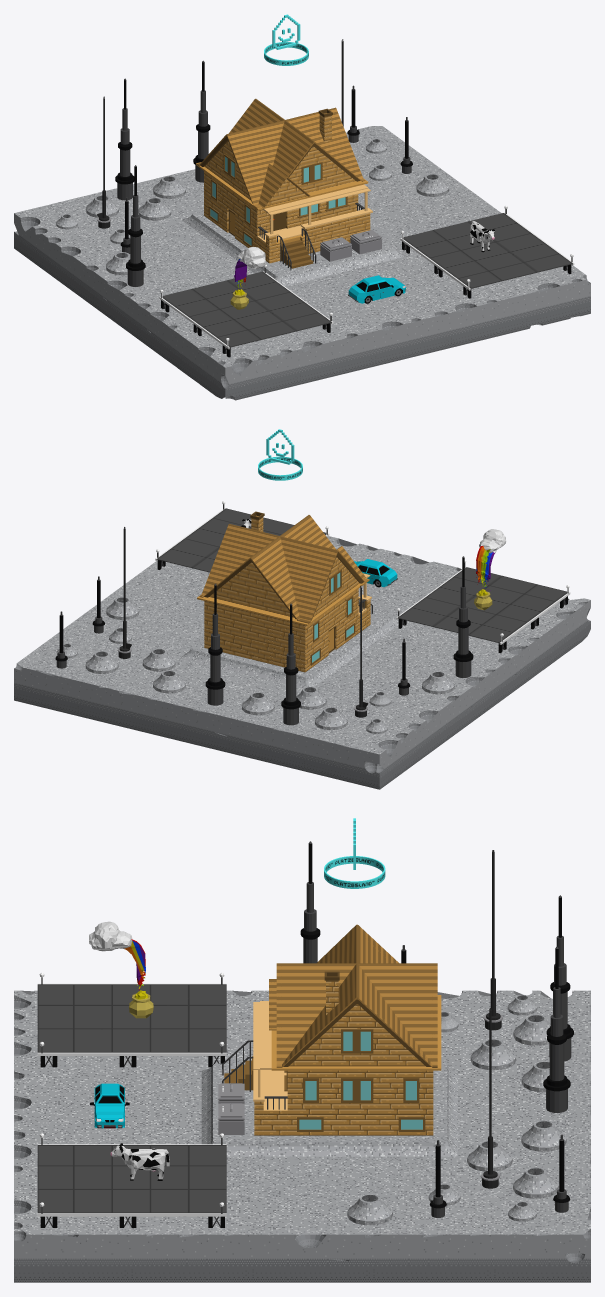
3 renders of one model, top to bottom at view 1: azimuth 30°, elevation 25°; view 2: azimuth 150°, elevation 25°; view 3: azimuth 270°, elevation 25°, orthographic. The views are drawn at different scales.
Visible parts, largest first — view 1: Cube.027, Cube.508, Cube.025, Cube.026, Cube.028, Cylinder.021, Cylinder.020, VEHICLES_CAR, OBJRANDOM_RAINBOW, Cylinder.017, TYPE_PREMIUM, Cube.029 (+4 smaller); view 2: Cube.027, Cube.508, Cube.025, Cube.028, Cube.026, OBJRANDOM_RAINBOW, Cylinder.017, Cylinder.021, Cylinder.020, TYPE_PREMIUM, VEHICLES_CAR, Cylinder.030 (+8 smaller); view 3: Cube.027, Cube.508, Cube.025, Cube.026, Cube.028, Cylinder.017, OBJRANDOM_RAINBOW, VEHICLES_CAR, Cylinder.020, Cylinder.021, ANIMAL_VACA, TYPE_PREMIUM (+12 smaller).
Part boxes in pixels (<box>): Cube.027: <box>14,126,590,400</box>; Cube.508: <box>196,98,372,269</box>; Cube.025: <box>159,265,333,357</box>; Cube.026: <box>400,205,574,298</box>; Cube.028: <box>182,211,403,286</box>; Cylinder.021: <box>126,165,145,286</box>; Cylinder.020: <box>115,78,134,200</box>; VEHICLES_CAR: <box>348,275,405,303</box>; OBJRANDOM_RAINBOW: <box>230,247,266,309</box>; Cylinder.017: <box>193,60,210,182</box>; TYPE_PREMIUM: <box>264,14,308,65</box>; Cube.029: <box>320,237,351,261</box>; Cube.027: <box>14,536,590,789</box>; Cube.508: <box>197,511,372,672</box>; Cube.025: <box>396,560,570,653</box>; Cube.028: <box>181,610,398,688</box>; Cube.026: <box>155,501,329,572</box>; OBJRANDOM_RAINBOW: <box>474,529,506,610</box>; Cylinder.017: <box>205,583,225,705</box>; Cylinder.021: <box>453,556,473,677</box>; Cylinder.020: <box>281,603,300,725</box>; TYPE_PREMIUM: <box>258,429,302,480</box>; VEHICLES_CAR: <box>354,559,397,587</box>; Cylinder.030: <box>142,648,175,671</box>; Cube.027: <box>14,990,590,1282</box>; Cube.508: <box>222,924,441,1135</box>; Cube.025: <box>37,973,226,1067</box>; Cube.026: <box>37,1133,226,1227</box>; Cube.028: <box>201,1063,457,1156</box>; Cylinder.017: <box>543,946,570,1112</box>; OBJRANDOM_RAINBOW: <box>89,921,153,1018</box>; VEHICLES_CAR: <box>90,1083,129,1128</box>; Cylinder.020: <box>546,895,573,1061</box>; Cylinder.021: <box>300,841,320,963</box>; ANIMAL_VACA: <box>110,1143,169,1180</box>; TYPE_PREMIUM: <box>324,818,385,888</box>.
Bounding box in the file's own units: 4000 × 2855 × 4000.
Materials: 42 (6 with a texture image).
